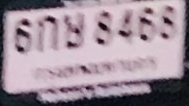num6: (13, 18, 33, 54)
txt01: (36, 14, 60, 53)
txt34: (62, 12, 87, 51)
